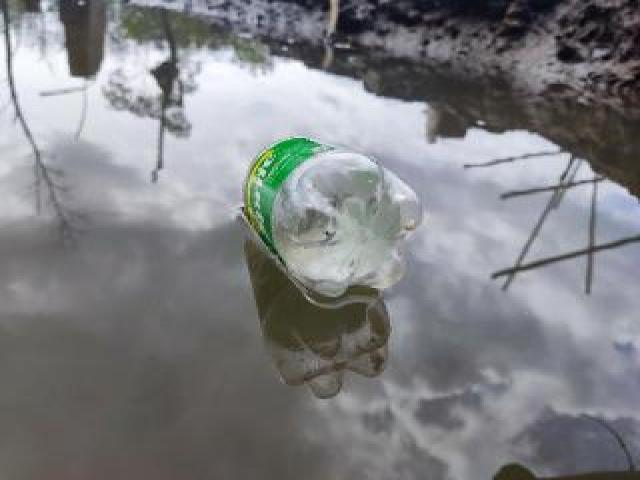Bottle: (232, 128, 430, 306)
